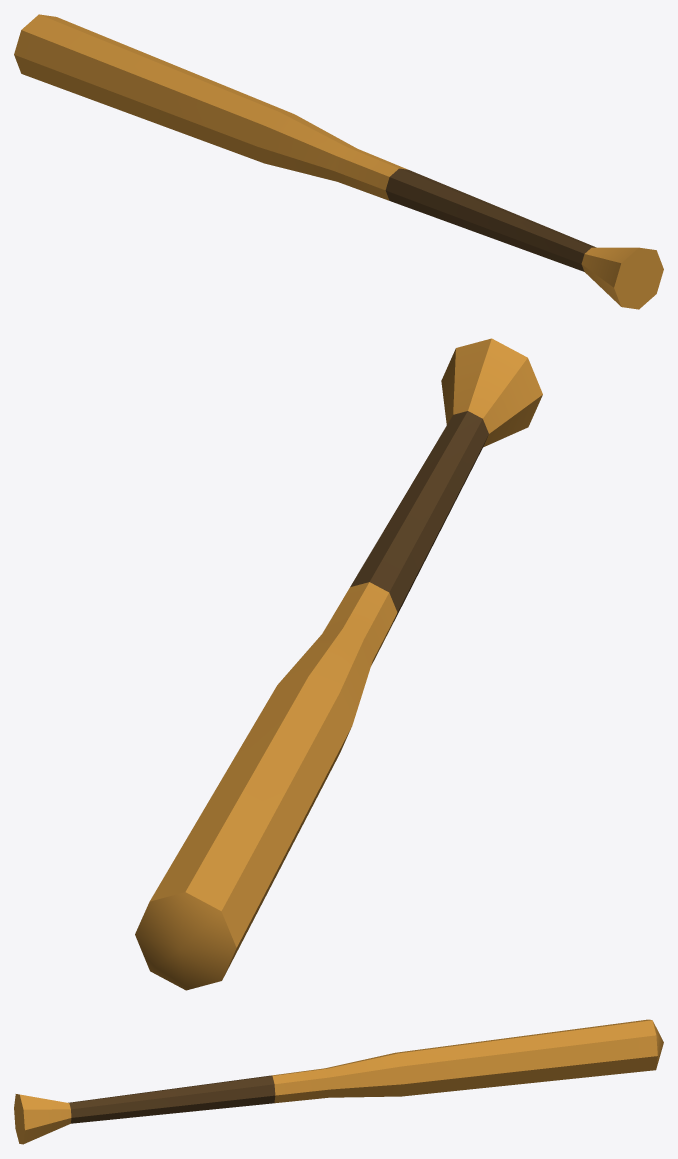
File: bat.fbx
The picture shows the model from 3 angles, top to bottom: view 1: azimuth 30°, elevation 25°; view 2: azimuth 150°, elevation 25°; view 3: azimuth 270°, elevation 25°; orthographic projection. The views are drawn at different scales.
Visible parts, largest first — view 1: Bat; view 2: Bat; view 3: Bat.
Boxes of the visible parts, left/top/right/bottom form: Bat: left=14, top=14, right=663, bottom=309; Bat: left=135, top=338, right=542, bottom=990; Bat: left=14, top=1019, right=663, bottom=1144.
Size of the model in its own units: 11.88 by 2.98 by 32.05.
